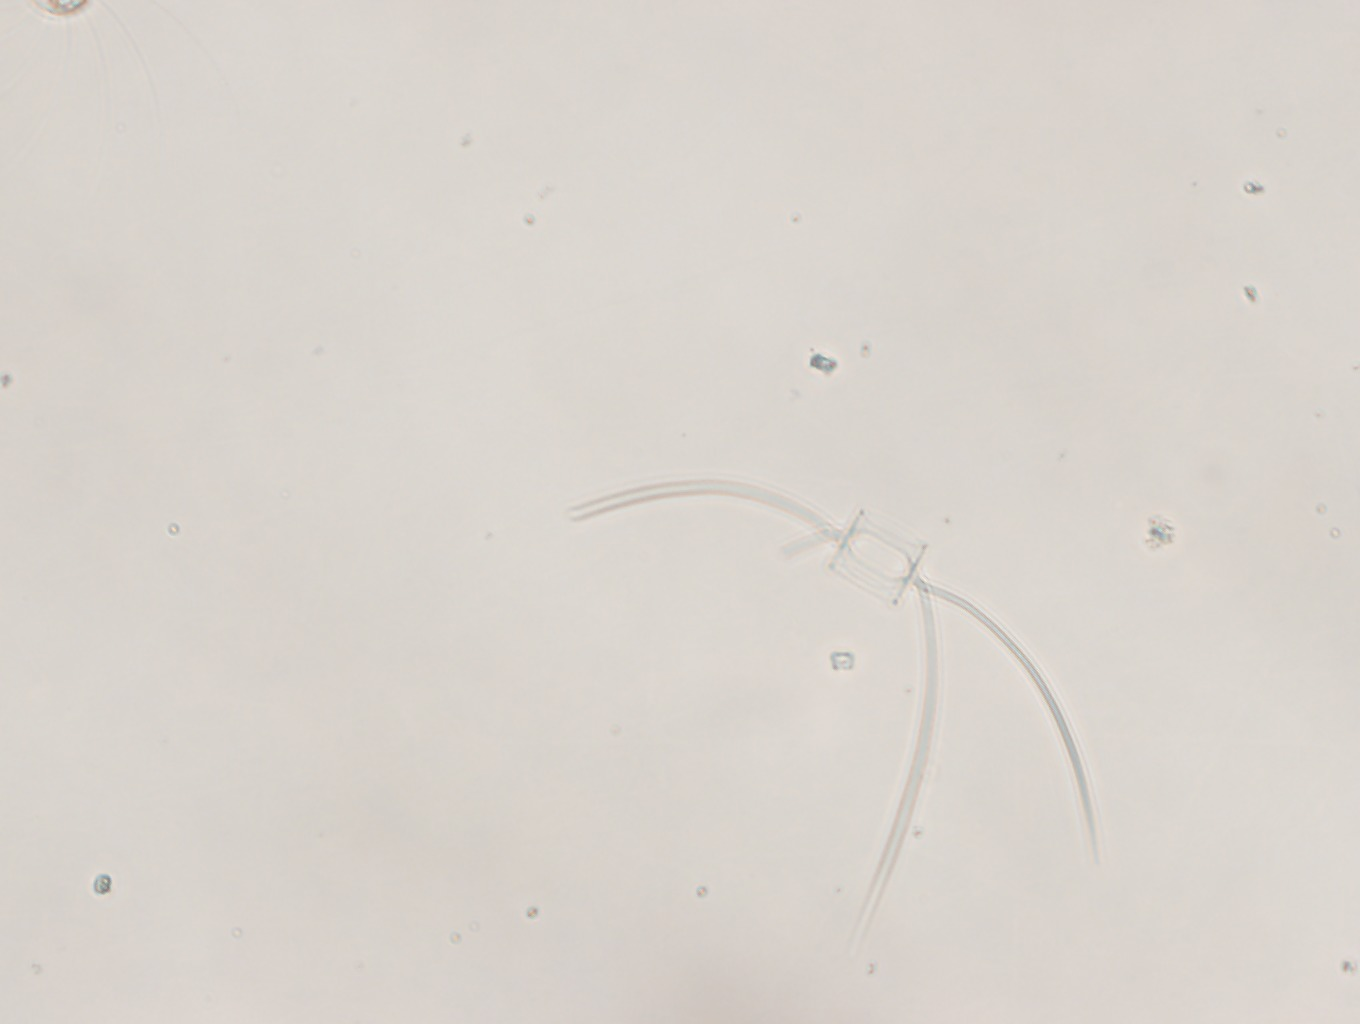chaetoceros: (560, 443, 1110, 959)
